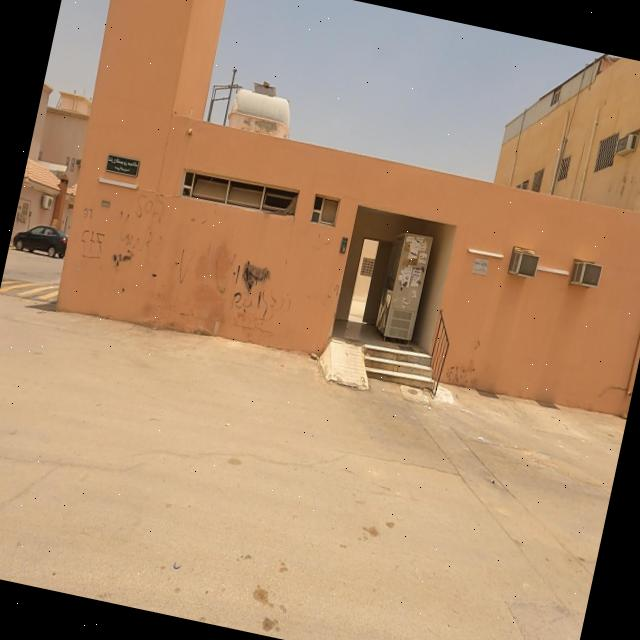Graffiti: (205, 249, 300, 328), (108, 190, 169, 280), (172, 211, 208, 288), (79, 227, 107, 260), (82, 207, 95, 223)
